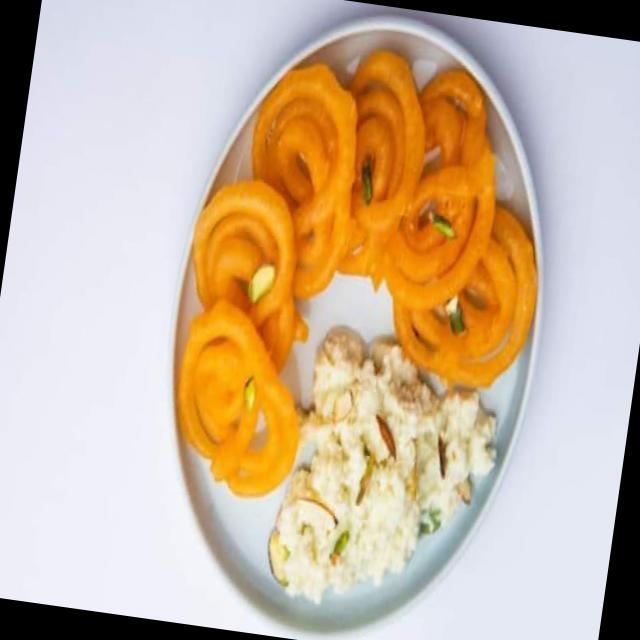jalebi: (221, 24, 564, 386), (160, 176, 322, 502)
